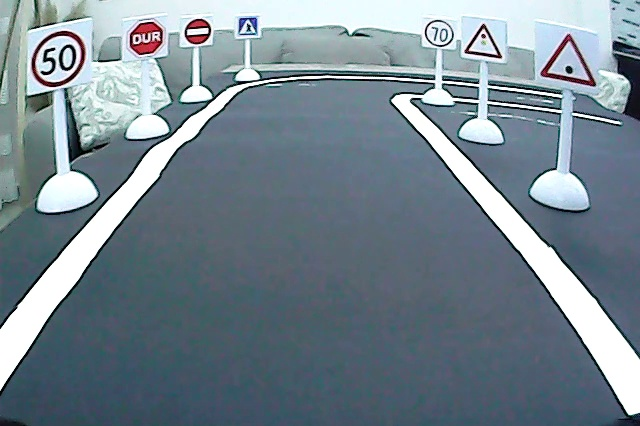do not enter: (181, 16, 213, 47)
green light: (538, 27, 599, 90)
pedestrian crossing: (236, 16, 260, 38)
red light: (463, 21, 505, 61)
speed limit 50: (28, 26, 90, 93)
speed limit 70: (423, 18, 455, 48)
stop sign: (122, 16, 169, 60)
